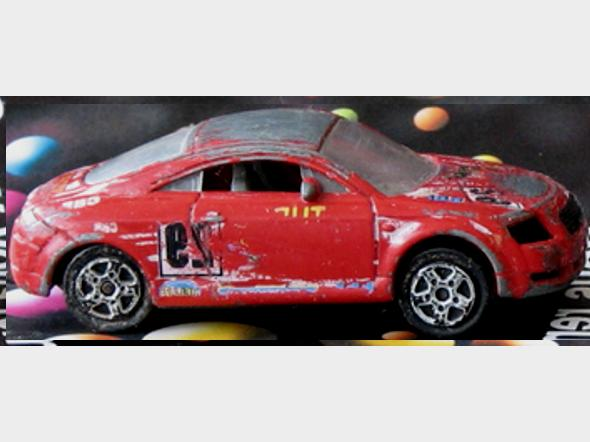toy-car: (6, 104, 590, 340)
